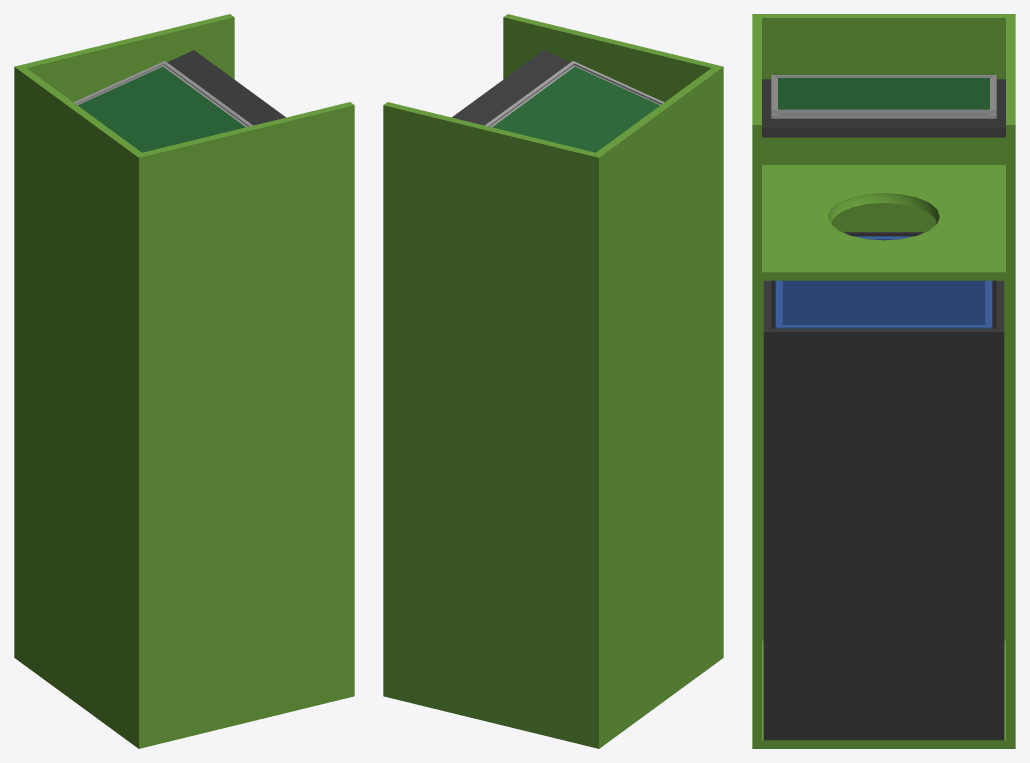
The model's file is geschirrrueckgabe_01.fbx.
3 views of the same model, side by side, from view 1: azimuth 30°, elevation 25°; view 2: azimuth 150°, elevation 25°; view 3: azimuth 270°, elevation 25° (orthographic). The views are drawn at different scales.
Parts seen in each view (by area): view 1: pCube4, pasted__pCube8, pCube12, pCube9; view 2: pCube4, pasted__pCube8, pCube12, pCube9; view 3: pasted__pCube7, pCube4, pasted__pCube8, pCube7, pCube12, pCube9, pasted__pCube12.
Boxes of the visible parts, left/top/right/bottom form: pCube4: left=14, top=206, right=354, bottom=748; pasted__pCube8: left=14, top=14, right=354, bottom=298; pCube12: left=74, top=61, right=252, bottom=152; pCube9: left=167, top=50, right=285, bottom=125; pCube4: left=383, top=206, right=723, bottom=748; pasted__pCube8: left=383, top=14, right=723, bottom=297; pCube12: left=485, top=61, right=663, bottom=152; pCube9: left=452, top=50, right=570, bottom=125; pasted__pCube7: left=763, top=232, right=1004, bottom=740; pCube4: left=752, top=165, right=1015, bottom=748; pasted__pCube8: left=752, top=14, right=1015, bottom=273; pCube7: left=775, top=236, right=992, bottom=328; pCube12: left=771, top=75, right=996, bottom=113; pCube9: left=762, top=79, right=1005, bottom=137; pasted__pCube12: left=771, top=114, right=996, bottom=118.
Bounding box in the file's own units: 7 × 18.32 × 7.
